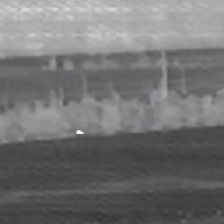Target: (74, 129, 85, 136)
